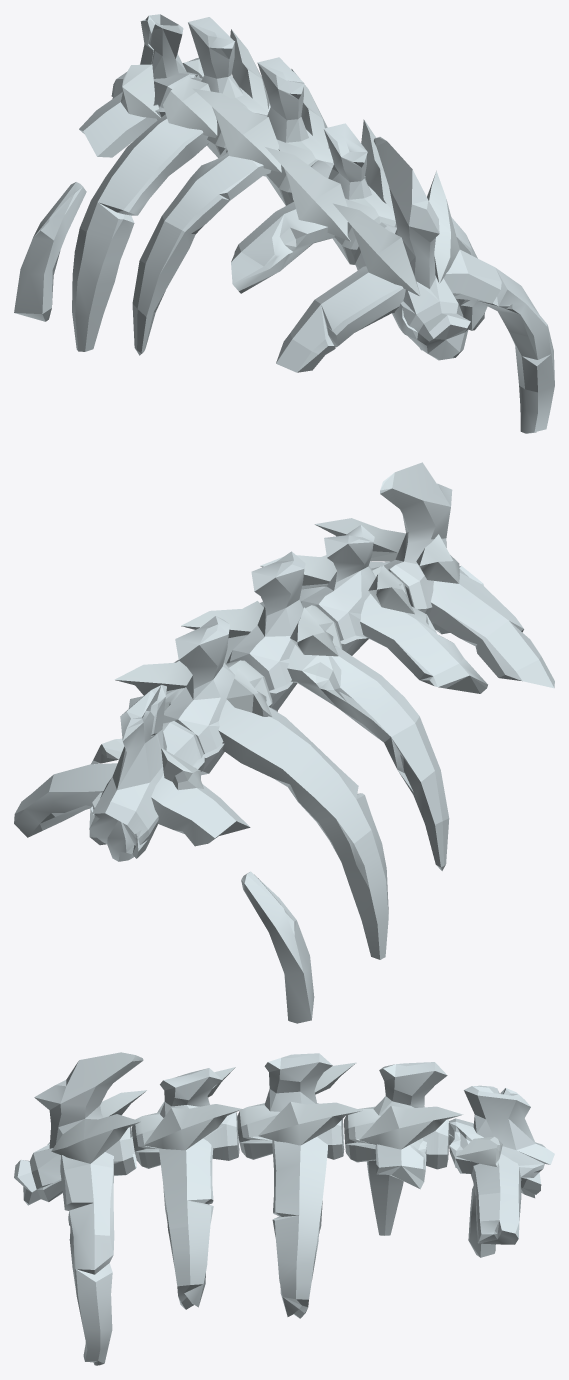
File: SubDecoration_6.fbx
The picture shows the model from 3 angles, top to bottom: view 1: azimuth 30°, elevation 25°; view 2: azimuth 150°, elevation 25°; view 3: azimuth 270°, elevation 25°; orthographic projection. The views are drawn at different scales.
Parts seen in each view (by area): view 1: terrain_fishbody_203; view 2: terrain_fishbody_203; view 3: terrain_fishbody_203.
Boxes of the visible parts, box(x1,y1,x2,y2) form: terrain_fishbody_203: box(14, 14, 554, 433); terrain_fishbody_203: box(14, 462, 554, 1023); terrain_fishbody_203: box(14, 1052, 554, 1365).
Bounding box in the file's own units: 1010 × 1000 × 1888.
Materials: 1 (1 with a texture image).
